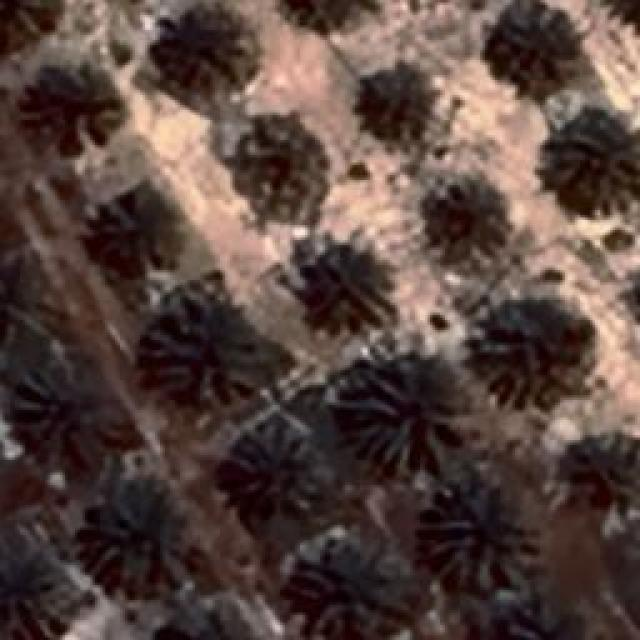PalmTree: (27, 24, 132, 231), (465, 300, 590, 410), (340, 370, 458, 475), (288, 532, 404, 636), (422, 490, 542, 590), (140, 310, 265, 400), (82, 480, 186, 582), (538, 110, 638, 215), (14, 368, 118, 458), (348, 67, 442, 155), (288, 248, 382, 330), (490, 3, 580, 88), (26, 76, 119, 154), (232, 432, 318, 510), (0, 546, 71, 640), (430, 175, 508, 260), (0, 546, 70, 640), (156, 7, 249, 75), (236, 126, 314, 206), (577, 440, 640, 510), (157, 602, 260, 640), (0, 257, 44, 345), (496, 605, 592, 640), (280, 0, 376, 31), (602, 0, 640, 33)
